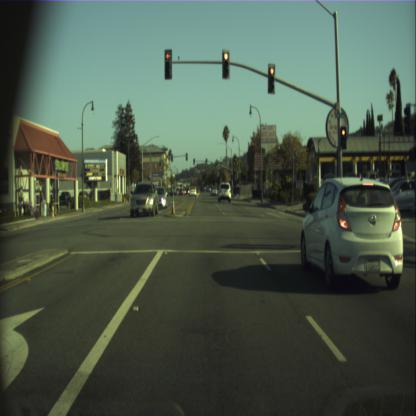Green: (192, 157, 194, 165), (205, 158, 207, 165), (216, 161, 217, 168)
Red: (267, 62, 275, 94), (222, 49, 229, 78), (340, 126, 346, 150)
RedLeft: (164, 49, 172, 78)
